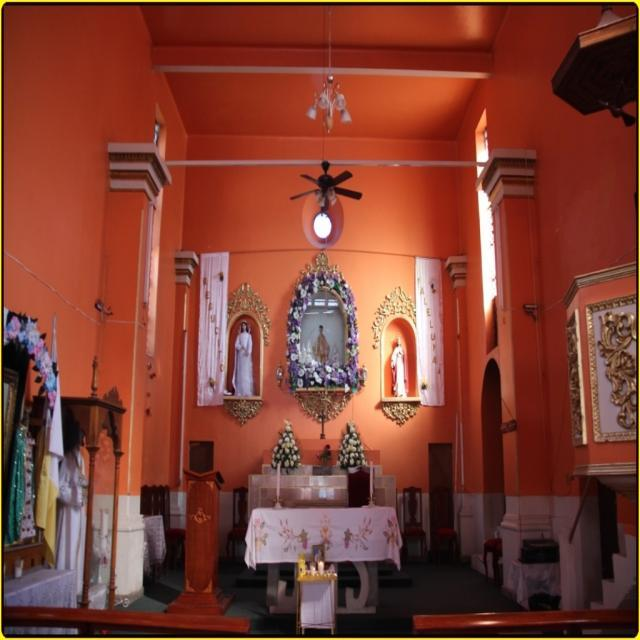fan_off: (293, 155, 366, 220)
